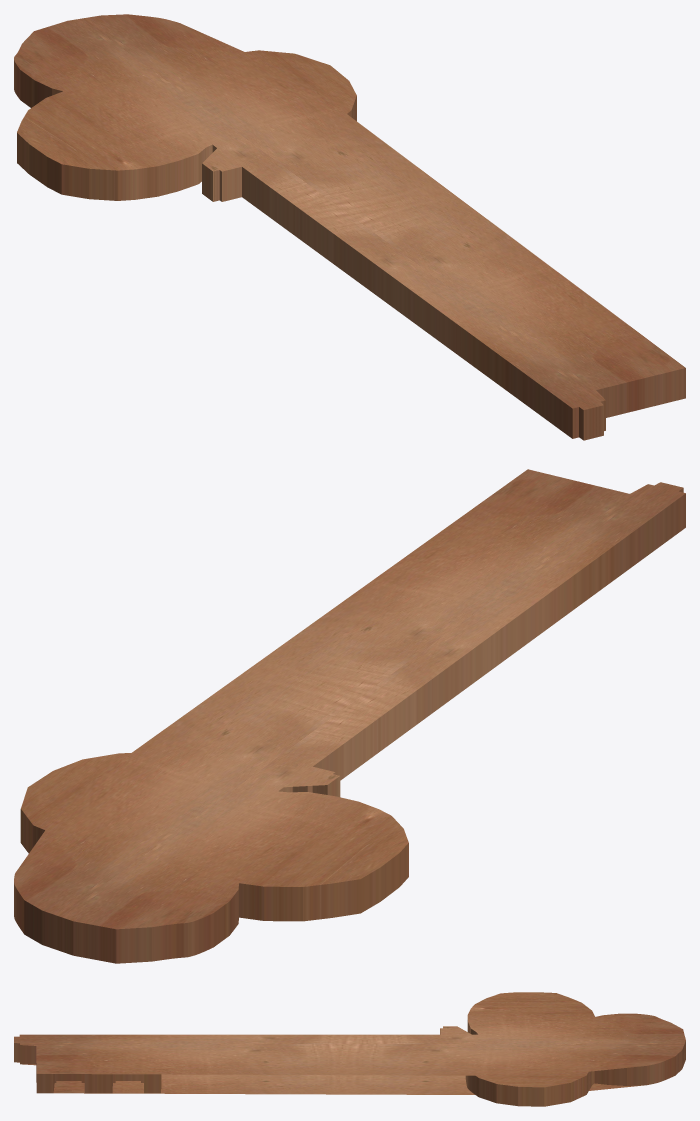
Rendered from llave libro.FBX.
The picture shows the model from 3 angles, top to bottom: view 1: azimuth 30°, elevation 25°; view 2: azimuth 150°, elevation 25°; view 3: azimuth 270°, elevation 25°; orthographic projection. The views are drawn at different scales.
Parts seen in each view (by area): view 1: Line001; view 2: Line001; view 3: Line001.
Part boxes in pixels (bbox=[...]): Line001: bbox=[14, 14, 685, 440]; Line001: bbox=[14, 469, 685, 963]; Line001: bbox=[14, 992, 685, 1106].
Size of the model in its own units: 36.37 by 3.45 by 108.
